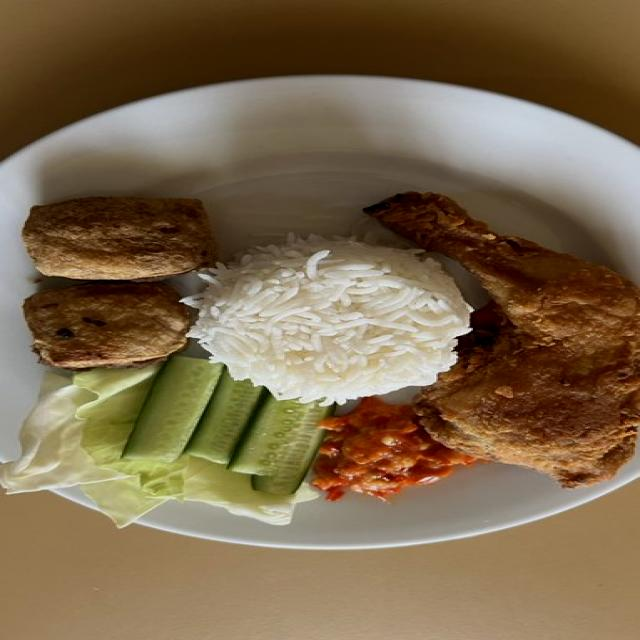ayam goreng: (364, 190, 640, 488)
nasi: (185, 231, 476, 404)
